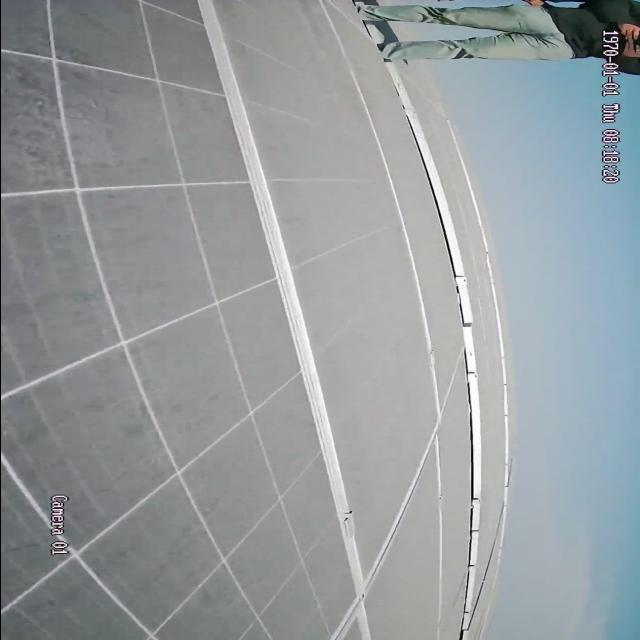interior panel: (189, 2, 437, 640)
